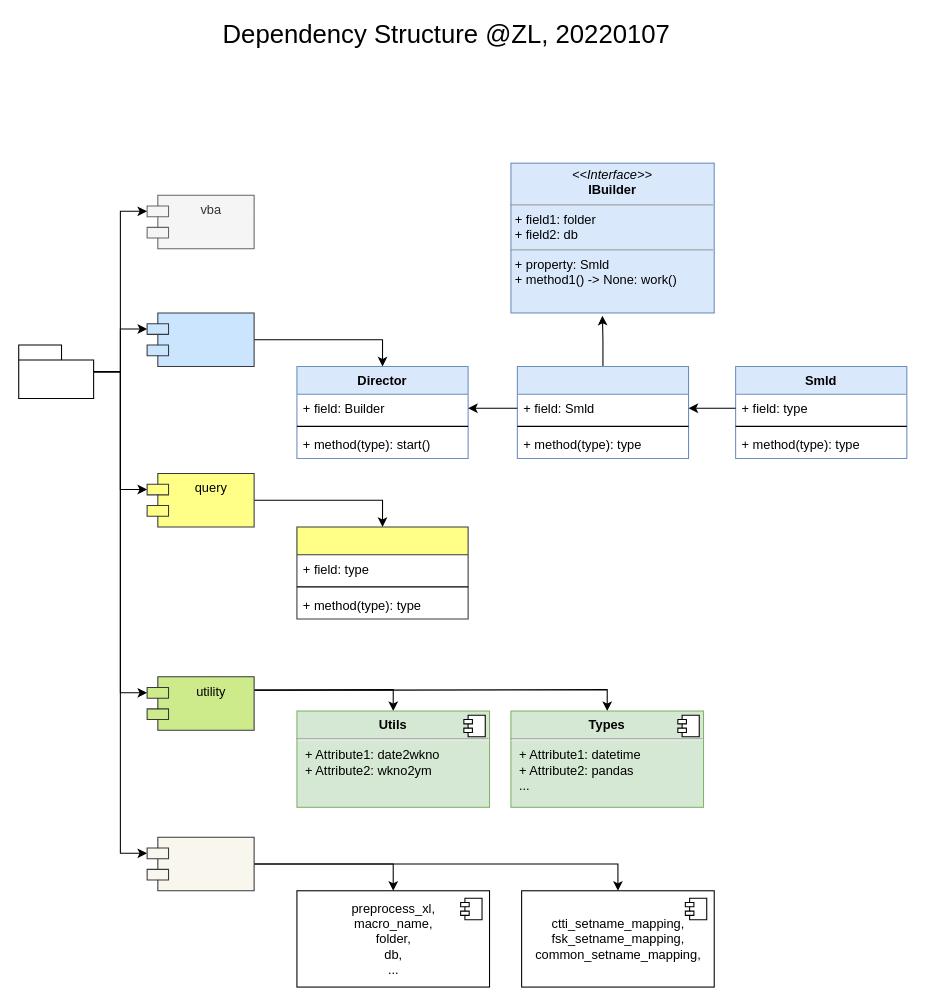
The diagram is 926 pixels wide and 1006 high, and some of its shapes have lost their labels. The box of each missing label's shape, as (x1, y1, x2, y2) in pixels:
Builder: (516, 365, 689, 458)
config: (146, 836, 254, 891)
core: (146, 312, 254, 366)
Exporter: (296, 526, 468, 619)
library: (18, 344, 94, 399)
